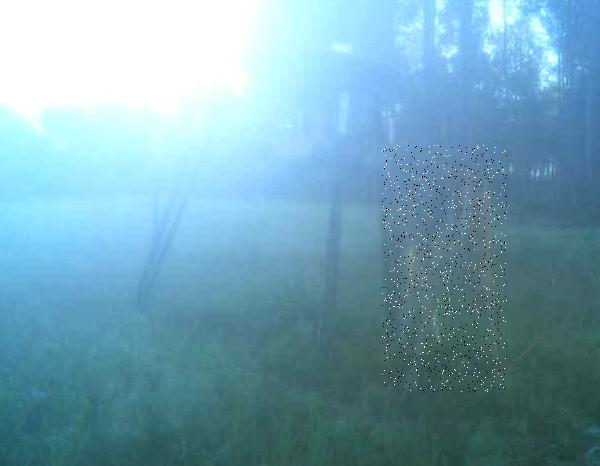Deer: (382, 145, 507, 392)
